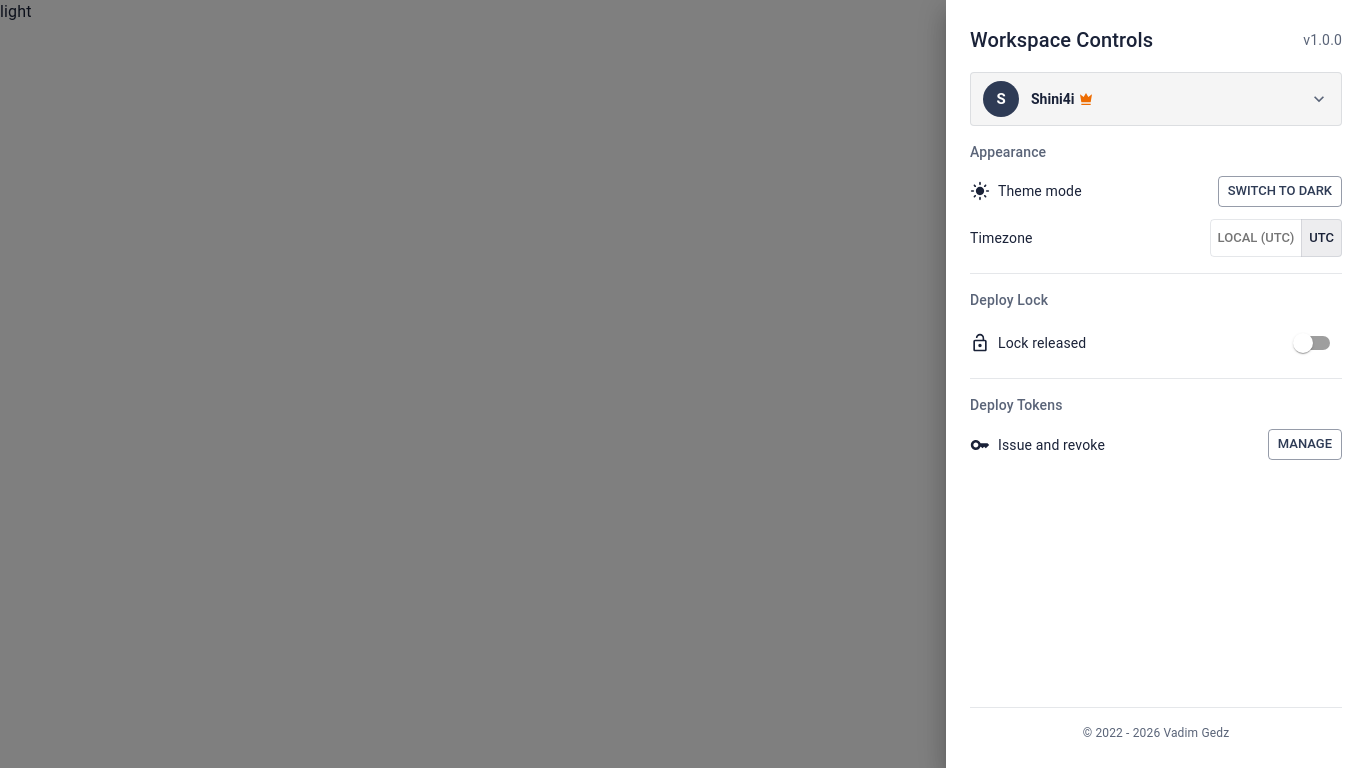
ConfigDrawer › toggles theme mode
The width and height of the screenshot is (1366, 768).
Step 1. Click the button "Switch to dark" → (1280, 191), box [1218,176,1342,207]
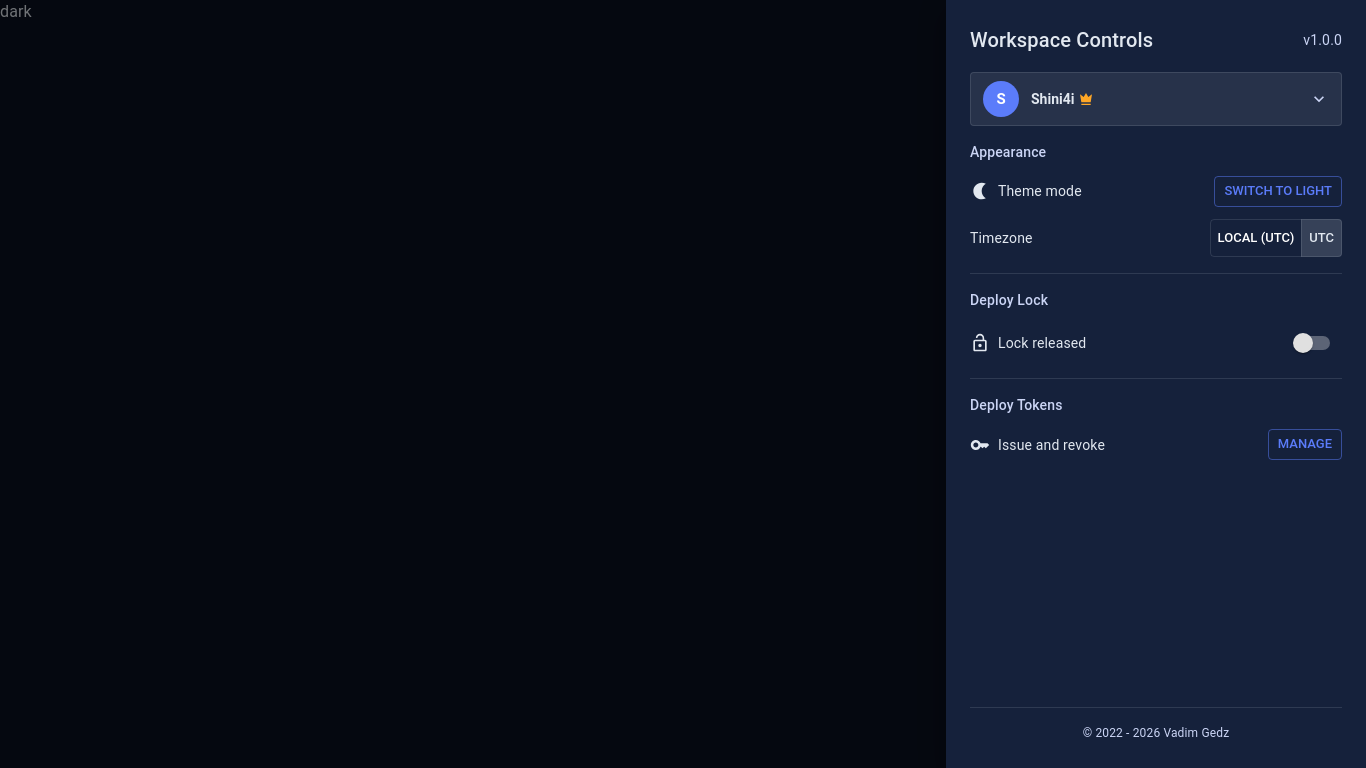
Expected: the text with test id "theme-mode" reads "dark", [0,2,32,21]
